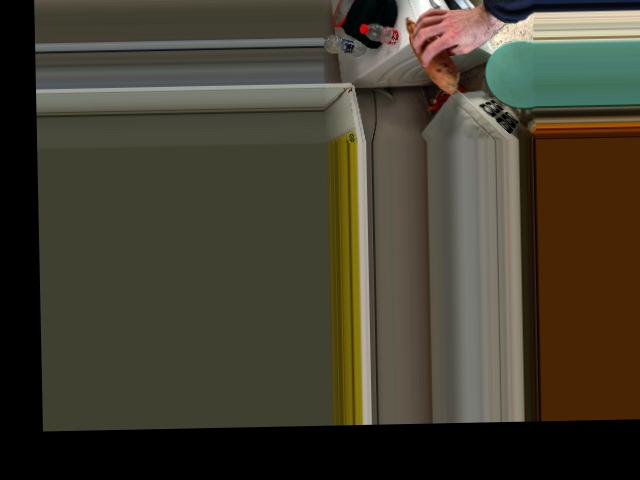sweet_potato: (408, 13, 460, 91)
